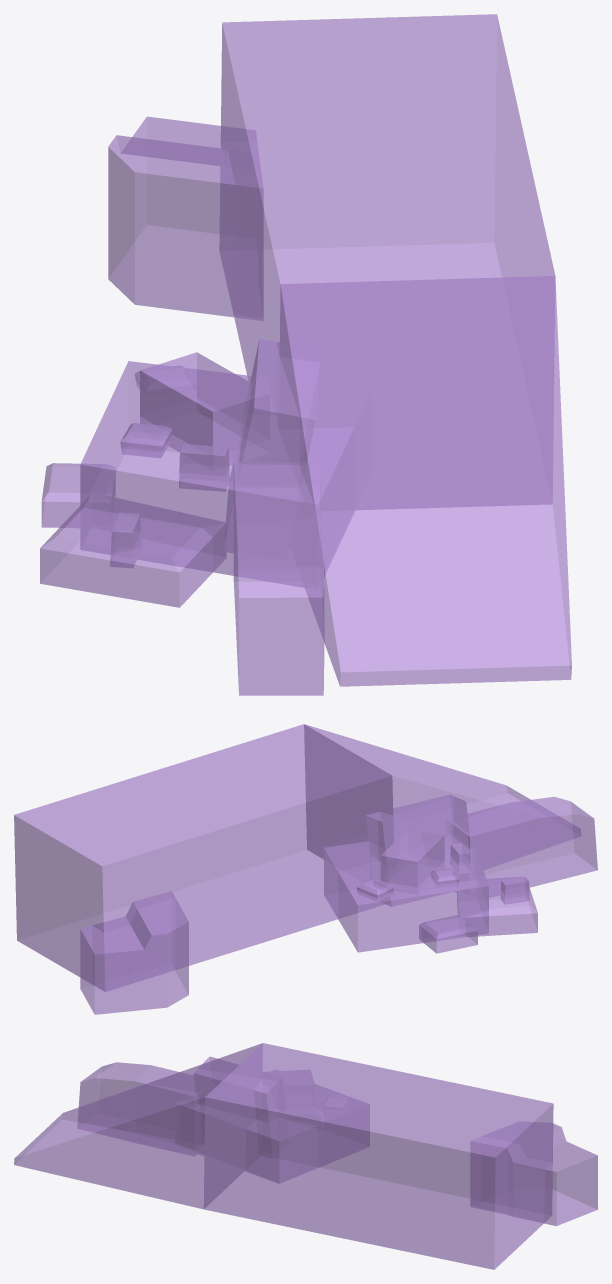
The model's file is SM_Obstacle_03_Collision.fbx.
3 views of the same model, one above another, from view 1: azimuth 30°, elevation 25°; view 2: azimuth 150°, elevation 25°; view 3: azimuth 270°, elevation 25° (orthographic). The views are drawn at different scales.
Visible parts, largest first — view 1: Obstacle_03_Collision; view 2: Obstacle_03_Collision; view 3: Obstacle_03_Collision.
Part boxes in pixels (x1,y1,x2,y2): Obstacle_03_Collision: (40,14,571,695); Obstacle_03_Collision: (14,724,597,1014); Obstacle_03_Collision: (14,1043,597,1269).
Size of the model in its own units: 685 by 225 by 989.
